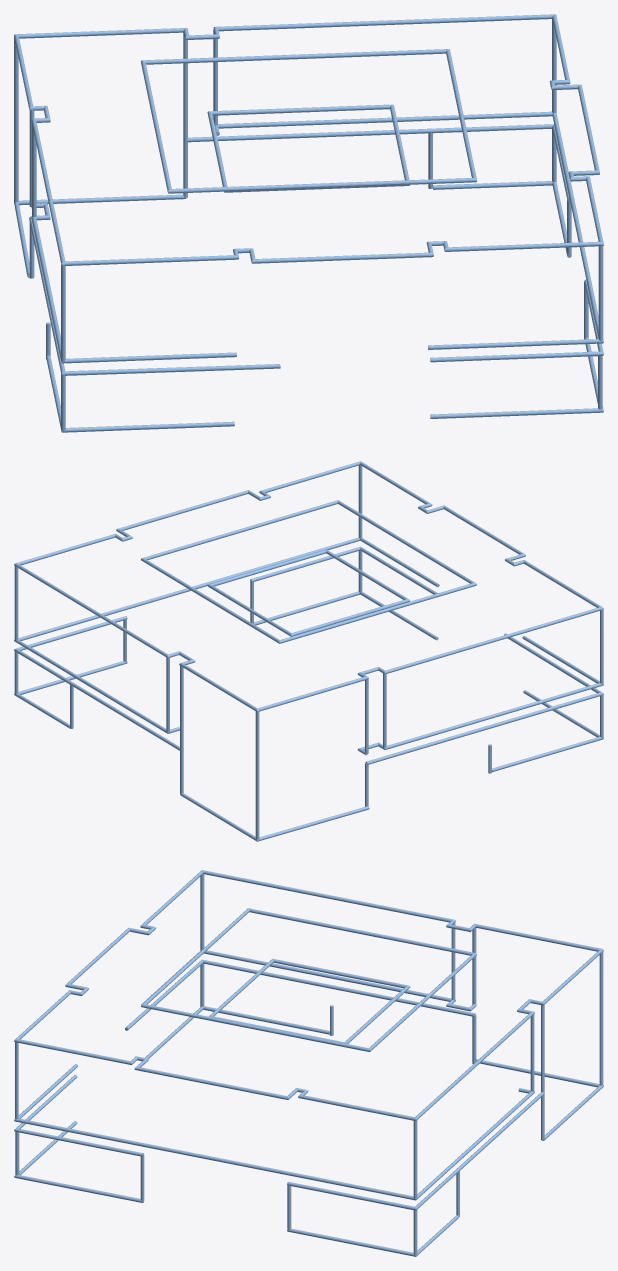
Rendered from bloom-line.gltf.
3 views of the same model, one above another, from view 1: azimuth 30°, elevation 25°; view 2: azimuth 150°, elevation 25°; view 3: azimuth 270°, elevation 25° (orthographic). The views are drawn at different scales.
Visible parts, largest first — view 1: Line006; view 2: Line006; view 3: Line006.
Boxes of the visible parts, x1,y1,x2,y2 form: Line006: [14, 14, 603, 432]; Line006: [14, 461, 603, 841]; Line006: [14, 870, 603, 1256].
Bounding box in the file's own units: 156 × 45.21 × 156.
